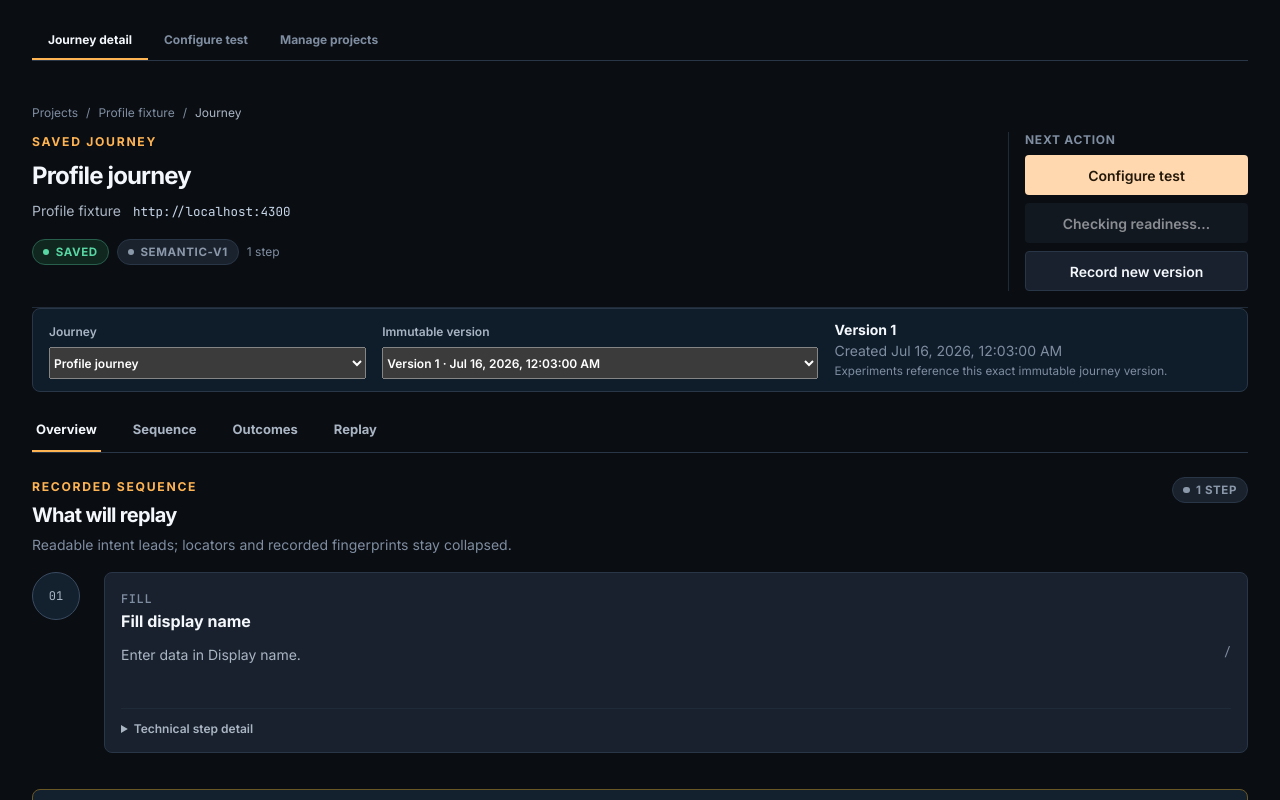
Test: external project journey workflow › summarizes the selected project from persisted project state
This screenshot has width=1280, height=800.
Click the button "Manage projects" at (329, 40), box [264, 20, 394, 60]
(page scrolled)
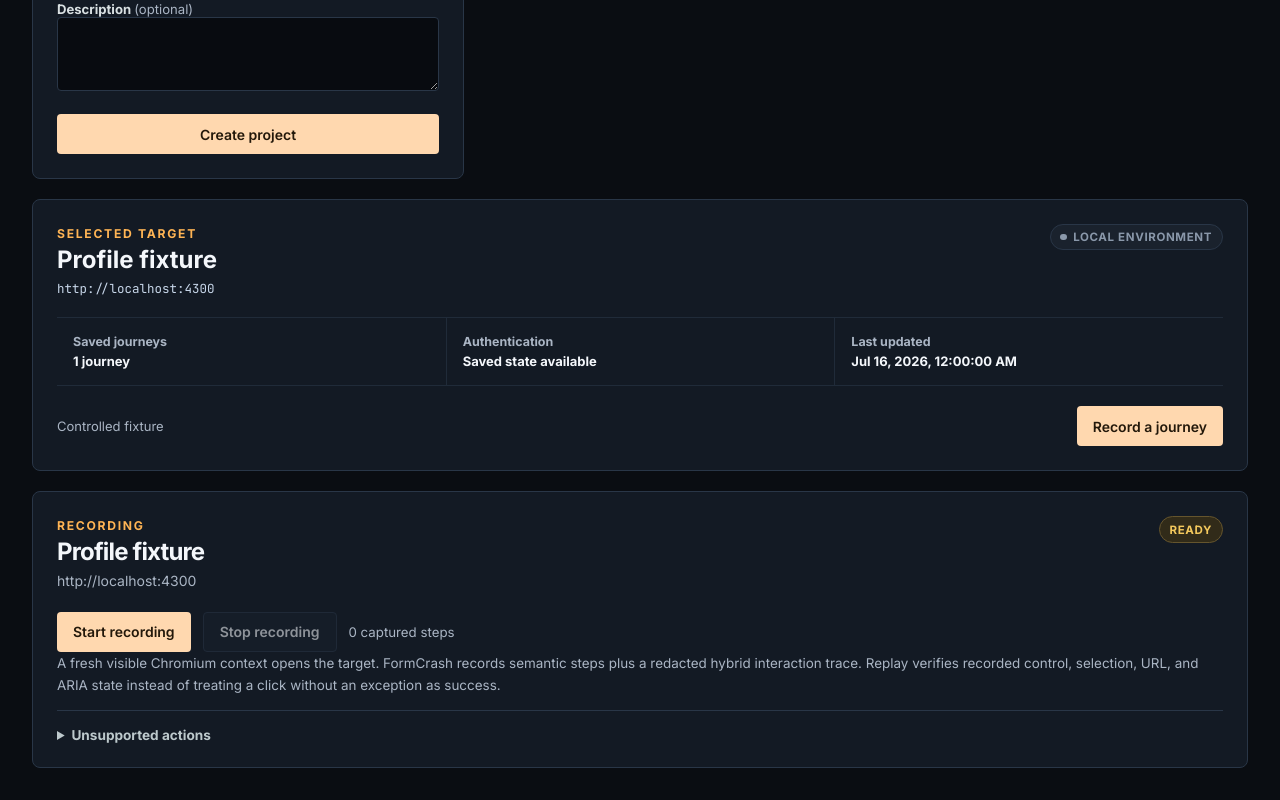
Expected: the text "1 journey" is shown, [73, 353, 130, 369]
Expected: the text "Saved state available" is shown, [463, 353, 597, 369]
